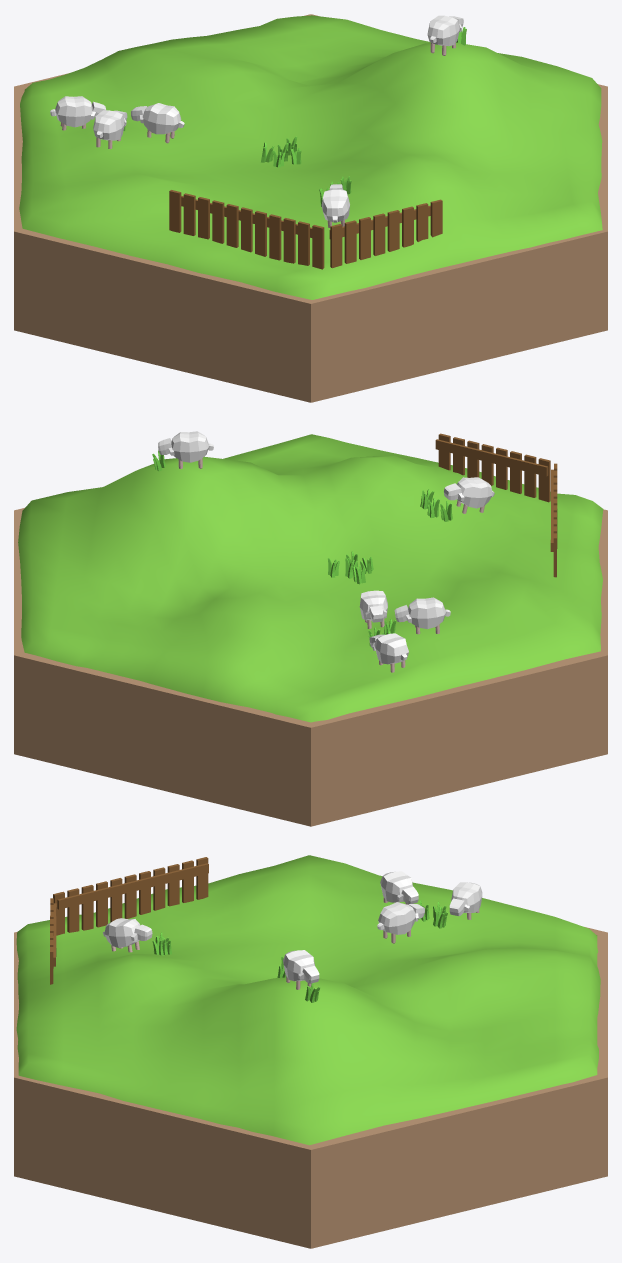
File: grasslands.fbx
3 views of the same model, one above another, from view 1: azimuth 30°, elevation 25°; view 2: azimuth 150°, elevation 25°; view 3: azimuth 270°, elevation 25° (orthographic).
Parts seen in each view (by area): view 1: Plane.002, base.004, Cube.013, Cube.012, sheep.002, sheep, sheep.003, sheep.004, sheep.001; view 2: Plane.002, base.004, Cube.012, sheep.001, sheep.003, sheep.004, sheep, sheep.002, Cube.013; view 3: Plane.002, base.004, Cube.013, sheep.002, sheep.004, sheep.001, sheep.003, sheep, Cube.012.
Boxes of the visible parts, x1=… form: Plane.002: x1=19, y1=15, x2=602, y2=299; base.004: x1=14, y1=14, x2=607, y2=402; Cube.013: x1=169, y1=190, x2=324, y2=269; Cube.012: x1=329, y1=199, x2=442, y2=268; sheep.002: x1=131, y1=103, x2=184, y2=134; sheep: x1=50, y1=96, x2=105, y2=127; sheep.003: x1=427, y1=15, x2=463, y2=46; sheep.004: x1=321, y1=184, x2=349, y2=222; sheep.001: x1=93, y1=110, x2=127, y2=140; Plane.002: x1=18, y1=434, x2=603, y2=722; base.004: x1=14, y1=508, x2=607, y2=826; Cube.012: x1=435, y1=433, x2=550, y2=502; sheep.001: x1=394, y1=597, x2=450, y2=629; sheep.003: x1=158, y1=431, x2=213, y2=462; sheep.004: x1=444, y1=477, x2=494, y2=508; sheep: x1=369, y1=633, x2=408, y2=664; sheep.002: x1=359, y1=590, x2=387, y2=622; Cube.013: x1=550, y1=463, x2=557, y2=577; Plane.002: x1=16, y1=855, x2=600, y2=1145; base.004: x1=14, y1=927, x2=607, y2=1248; Cube.013: x1=53, y1=857, x2=208, y2=935; sheep.002: x1=377, y1=902, x2=424, y2=934; sheep.004: x1=103, y1=918, x2=152, y2=947; sheep.001: x1=380, y1=871, x2=418, y2=904; sheep.003: x1=283, y1=950, x2=319, y2=983; sheep: x1=449, y1=882, x2=482, y2=916; Cube.012: x1=50, y1=898, x2=56, y2=984.
Size of the model in its own units: 1364 by 464 by 1181.
